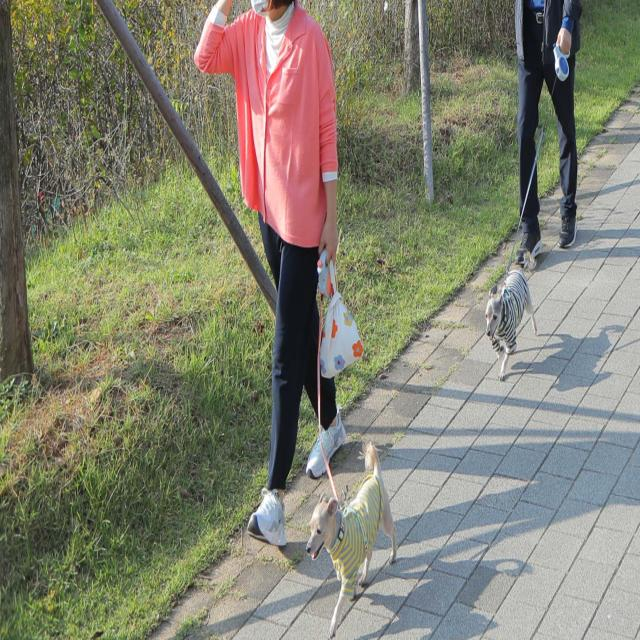Leashed_Dog: (305, 226, 397, 640), (485, 14, 577, 381)
